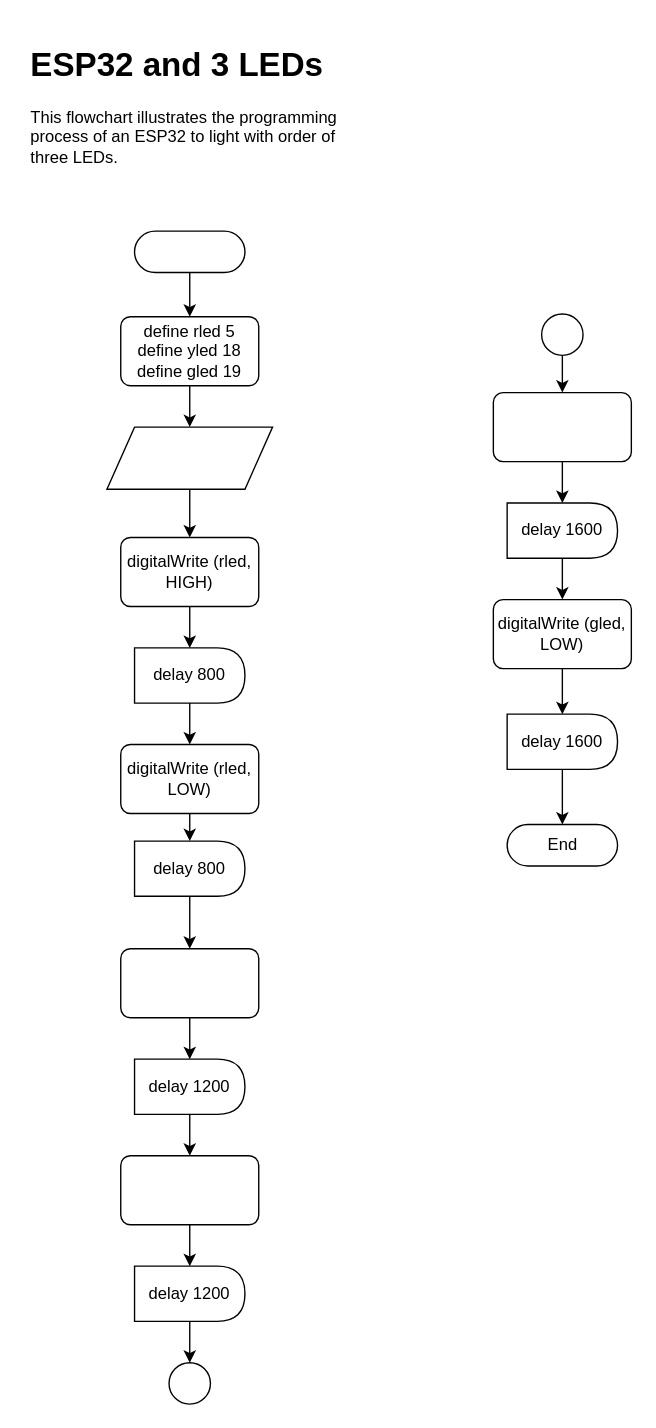
This 656x1428 diagram has some shape labels left out. Here are the shapes that lost their labels. From the top down, the box of each, then its label:
(133, 230, 245, 273): Start
(492, 391, 631, 462): digitalWrite (gled, HIGH)
(106, 426, 273, 489): rled, OUTPUT yled, OUTPUT gled, OUTPUT
(119, 947, 259, 1018): digitalWrite (yled, HIGH)
(119, 1154, 259, 1225): digitalWrite (yled, LOW)
